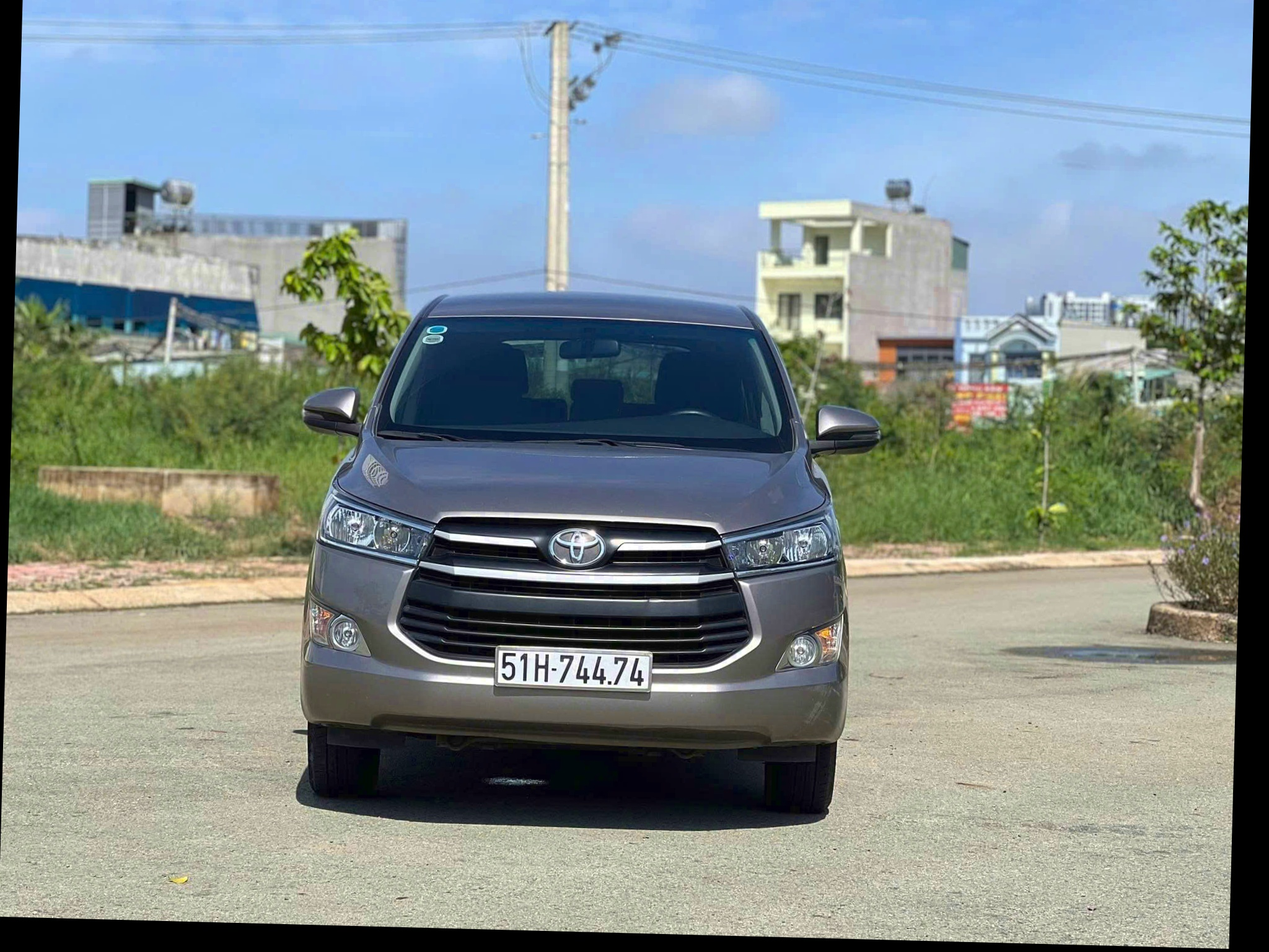Bien-so: (489, 642, 660, 702)
